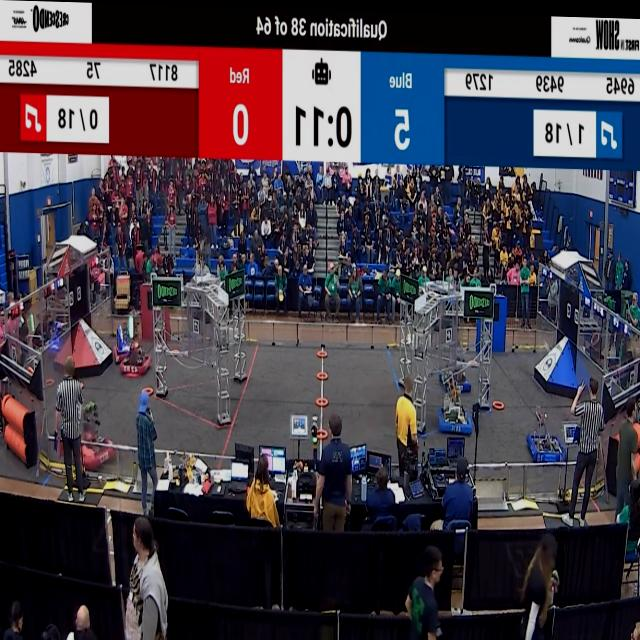Robot: (526, 394, 566, 468), (437, 361, 473, 436), (118, 320, 153, 387)
